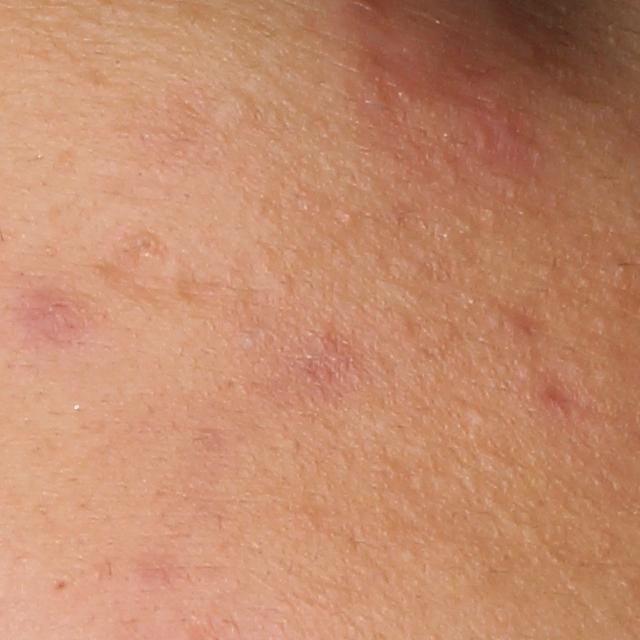atrophic_scar: (359, 30, 424, 97), (96, 250, 161, 295)
comedo: (216, 88, 250, 123), (336, 205, 358, 230), (463, 402, 485, 427)
